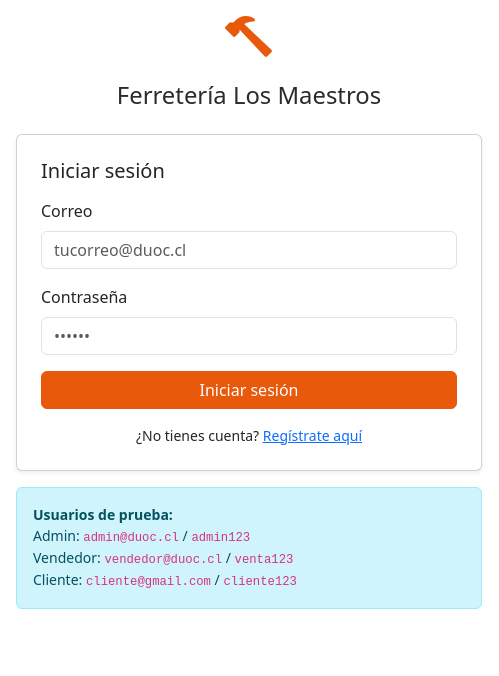
Test case: Página Login › muestra errores SOLO después de intentar enviar vacío
Check: the text "El correo es obligatorio." is not shown
Click the button "Iniciar sesión".
click(249, 390)  # box left=41, top=371, right=457, bottom=409
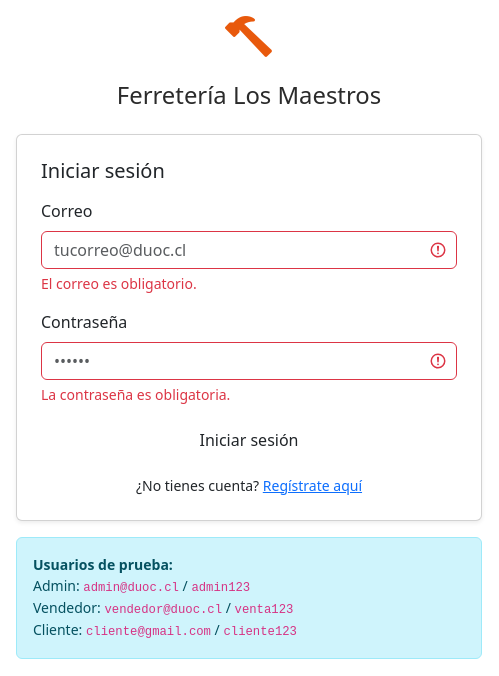
Check: the text "El correo es obligatorio." is shown, box left=41, top=274, right=197, bottom=293
Check: the text "La contraseña es obligatoria." is shown, box left=41, top=385, right=230, bottom=404
